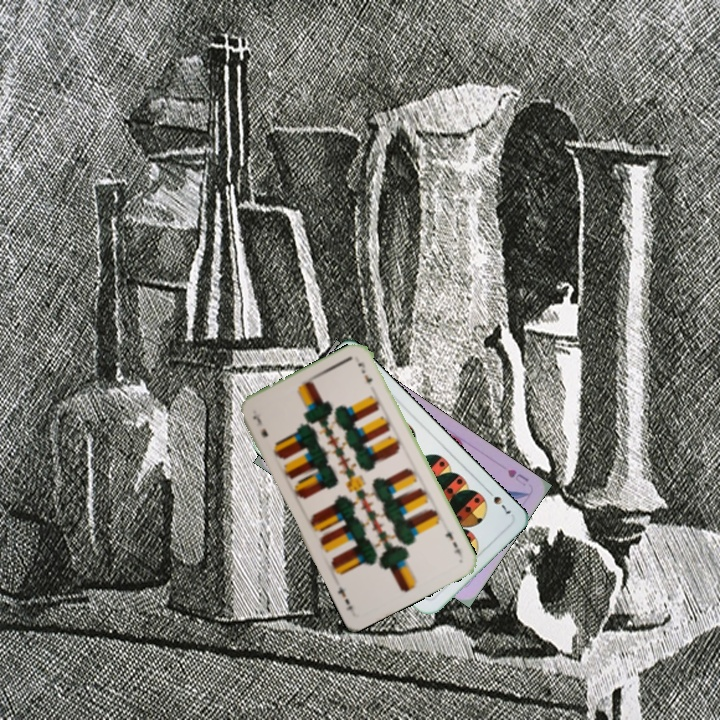E7: (441, 527, 465, 560), (249, 411, 271, 440)
HU: (503, 465, 532, 489)
S7: (482, 485, 514, 517)
